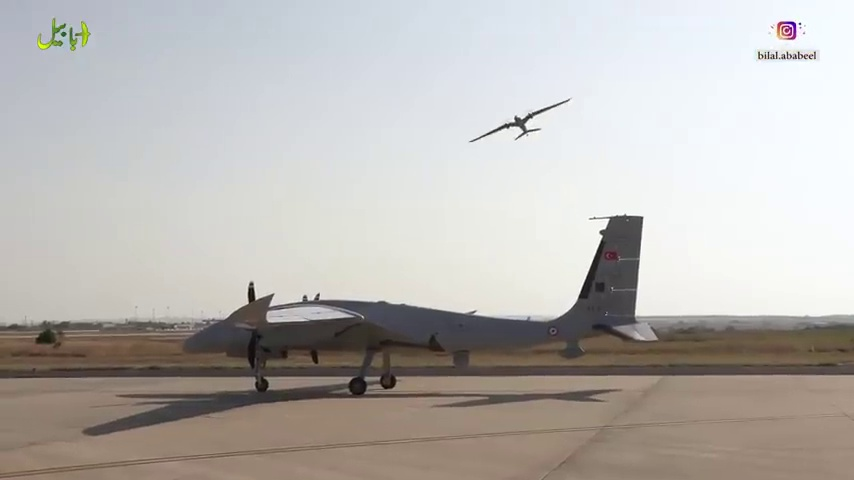military drone: (182, 213, 659, 395), (469, 96, 572, 143)
